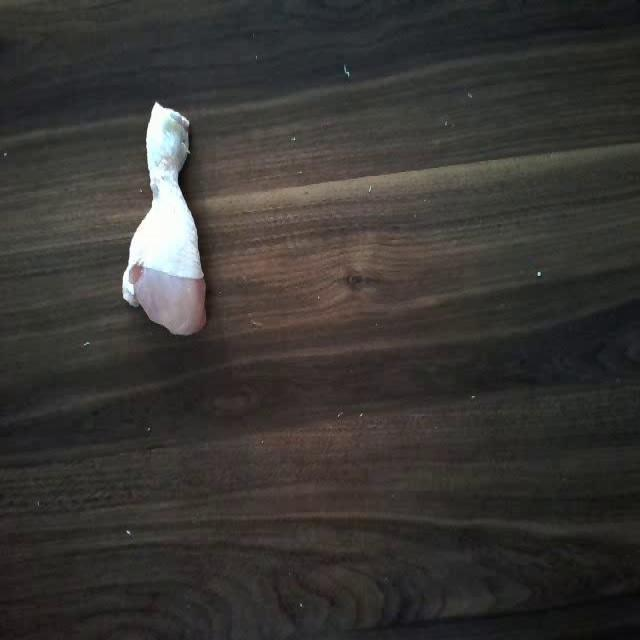leg: (124, 95, 208, 346)
